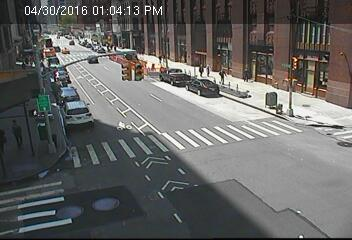neg: (149, 176, 191, 232), (290, 149, 324, 194), (176, 7, 209, 52), (236, 139, 260, 171), (20, 6, 44, 37), (189, 85, 212, 116), (294, 22, 317, 53), (123, 122, 145, 151), (283, 81, 304, 110), (224, 19, 245, 47), (26, 59, 47, 86), (91, 166, 111, 193), (111, 12, 130, 37), (183, 139, 202, 164), (125, 66, 144, 90), (259, 87, 276, 110), (98, 70, 115, 93), (64, 7, 80, 29), (308, 73, 323, 93), (238, 83, 251, 101), (261, 58, 271, 72)
pos: (193, 59, 210, 82), (153, 52, 170, 74), (216, 65, 231, 85), (202, 63, 211, 74)
